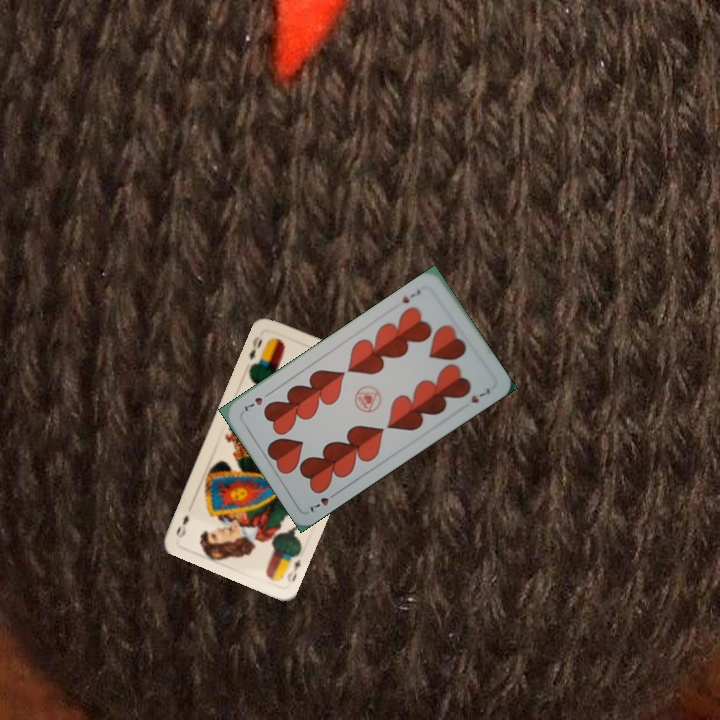EO: (283, 549, 303, 584), (245, 332, 265, 363)
H7: (306, 487, 341, 515), (398, 285, 423, 306)
